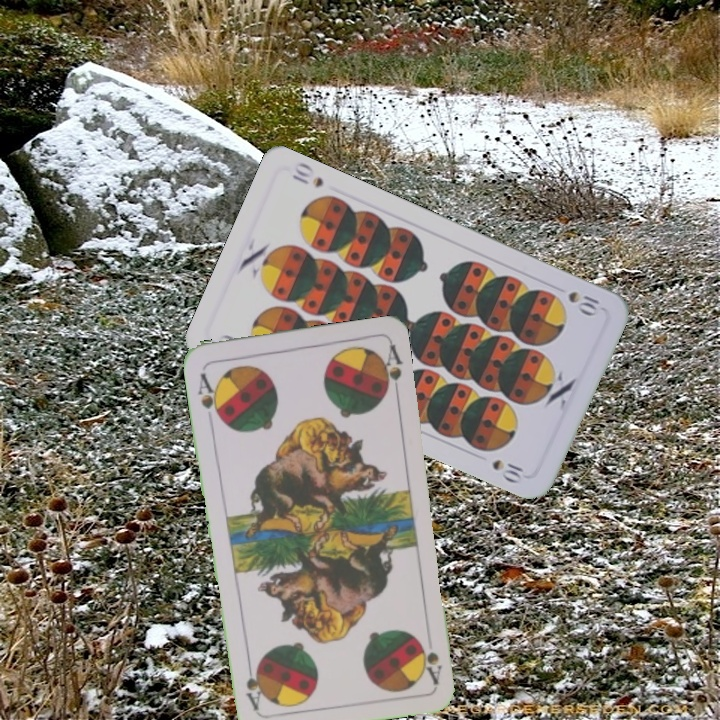S10: (564, 287, 603, 319)
SA: (414, 634, 445, 687), (194, 369, 224, 423)
